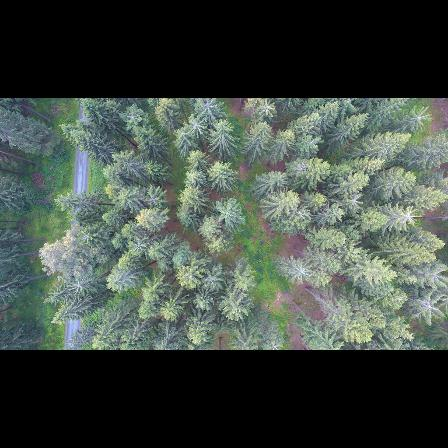Sick: (410, 290, 446, 322), (66, 277, 94, 300), (398, 205, 422, 230), (289, 260, 313, 284)
